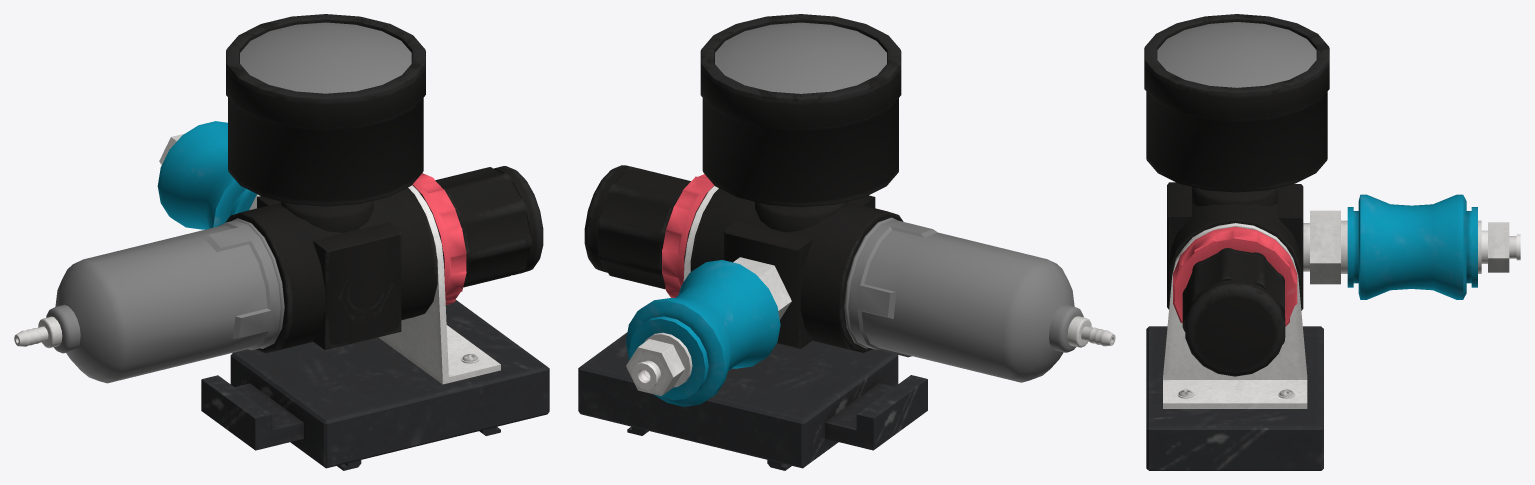
The model's file is 气动二联件 1.fbx.
3 views of the same model, side by side, from view 1: azimuth 30°, elevation 25°; view 2: azimuth 150°, elevation 25°; view 3: azimuth 270°, elevation 25° (orthographic). The views are drawn at different scales.
Visible parts, largest first — view 1: QDELJ01, QDELJ02; view 2: QDELJ01, QDELJ02; view 3: QDELJ01, QDELJ02.
Part boxes in pixels (x1,y1,x2,y2): QDELJ01: [14, 14, 543, 384]; QDELJ02: [201, 300, 549, 470]; QDELJ01: [584, 14, 1115, 406]; QDELJ02: [578, 332, 927, 470]; QDELJ01: [1144, 14, 1520, 408]; QDELJ02: [1146, 326, 1323, 470].
Size of the model in its own units: 16.44 by 12.18 by 11.5.
